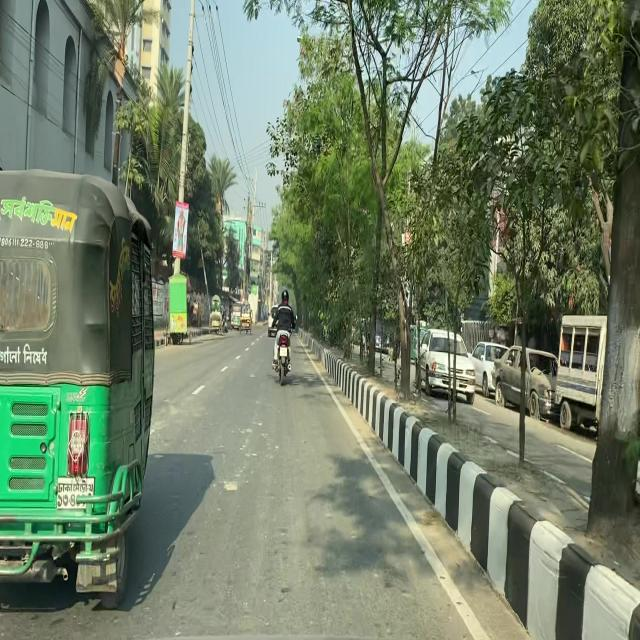car: (556, 311, 640, 448), (492, 344, 570, 426), (414, 327, 477, 407), (466, 339, 516, 403), (230, 302, 247, 332)
motorbike: (270, 310, 300, 388), (214, 303, 228, 335)
